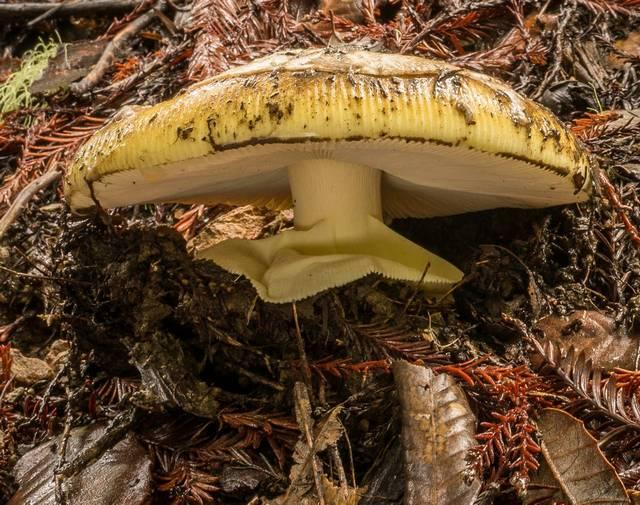edible_mushroom: (61, 44, 595, 305)
